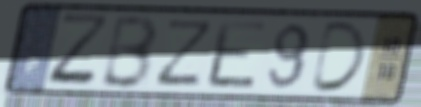9: (268, 20, 313, 92)
B: (97, 12, 162, 92)
D: (307, 20, 369, 95)
E: (205, 17, 271, 92)
Z: (44, 11, 115, 89), (151, 17, 218, 88)
